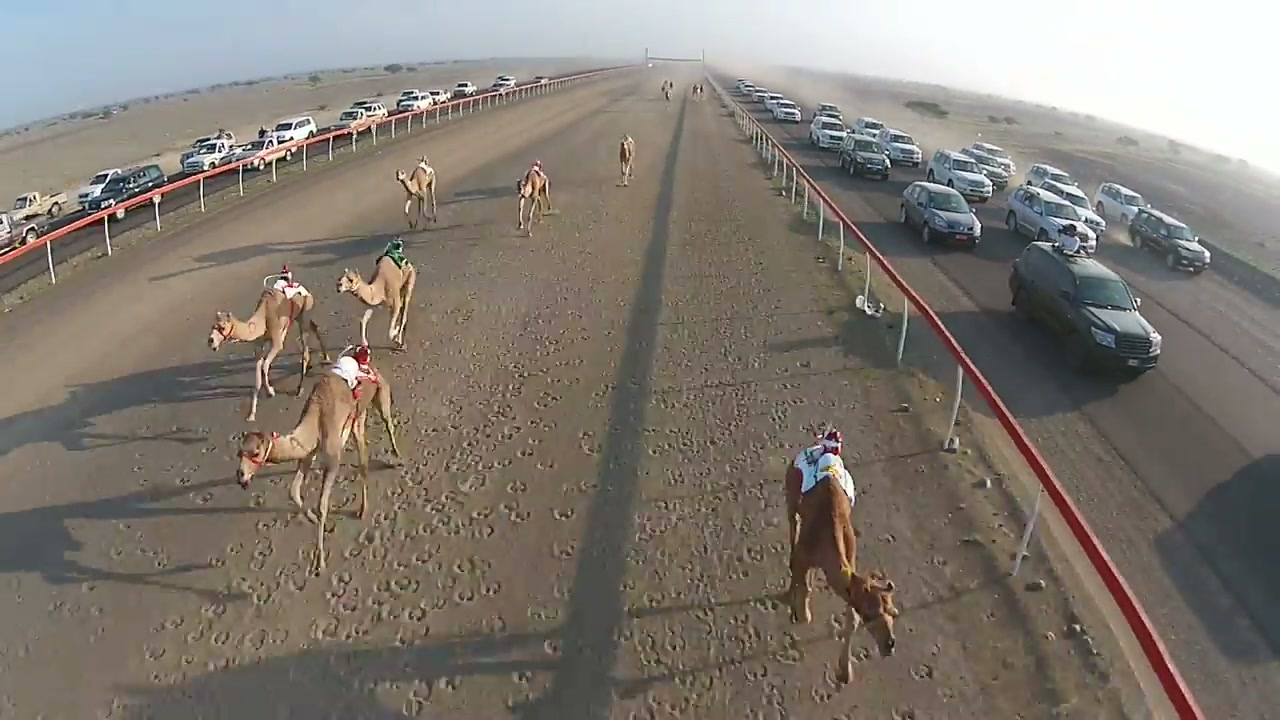animal_foot_print: (293, 297, 584, 686), (624, 313, 779, 673), (148, 524, 297, 700)
